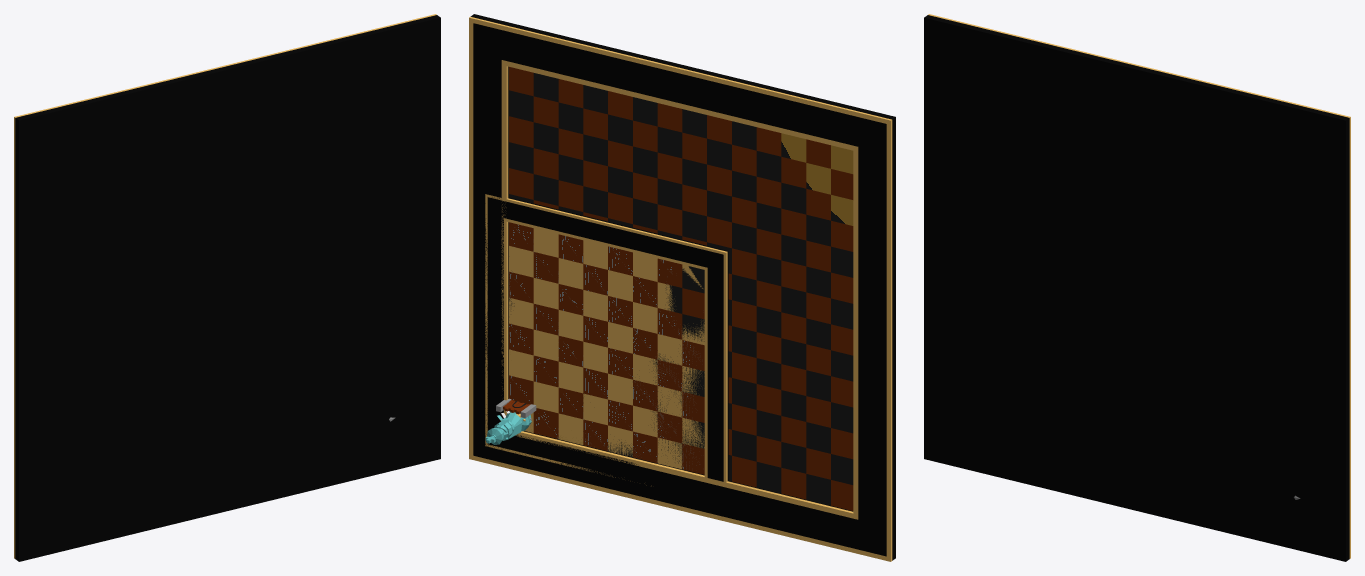
The model's file is ChessFigures.fbx.
3 views of the same model, side by side, from view 1: azimuth 30°, elevation 25°; view 2: azimuth 150°, elevation 25°; view 3: azimuth 330°, elevation 25° (orthographic).
Parts seen in each view (by area): view 1: Board_Large, Board; view 2: Board_Large, Board; view 3: Board_Large, Board.
Boxes of the visible parts, bbox=[...] form: Board_Large: bbox=[14, 14, 440, 561]; Board: bbox=[183, 196, 424, 504]; Board_Large: bbox=[469, 14, 895, 561]; Board: bbox=[485, 194, 728, 486]; Board_Large: bbox=[924, 14, 1350, 561]; Board: bbox=[1088, 230, 1329, 536].
Bounding box in the file's own units: 1703 × 1703 × 255.
